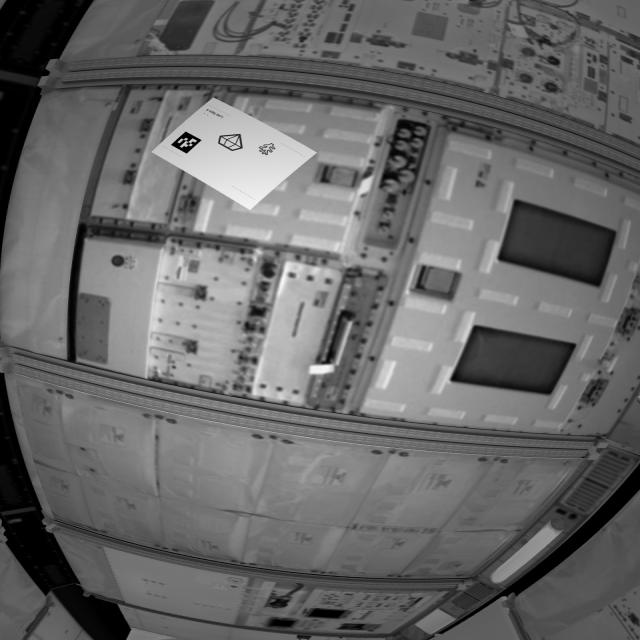coral: (257, 142, 279, 158)
diamond: (215, 132, 247, 154)
